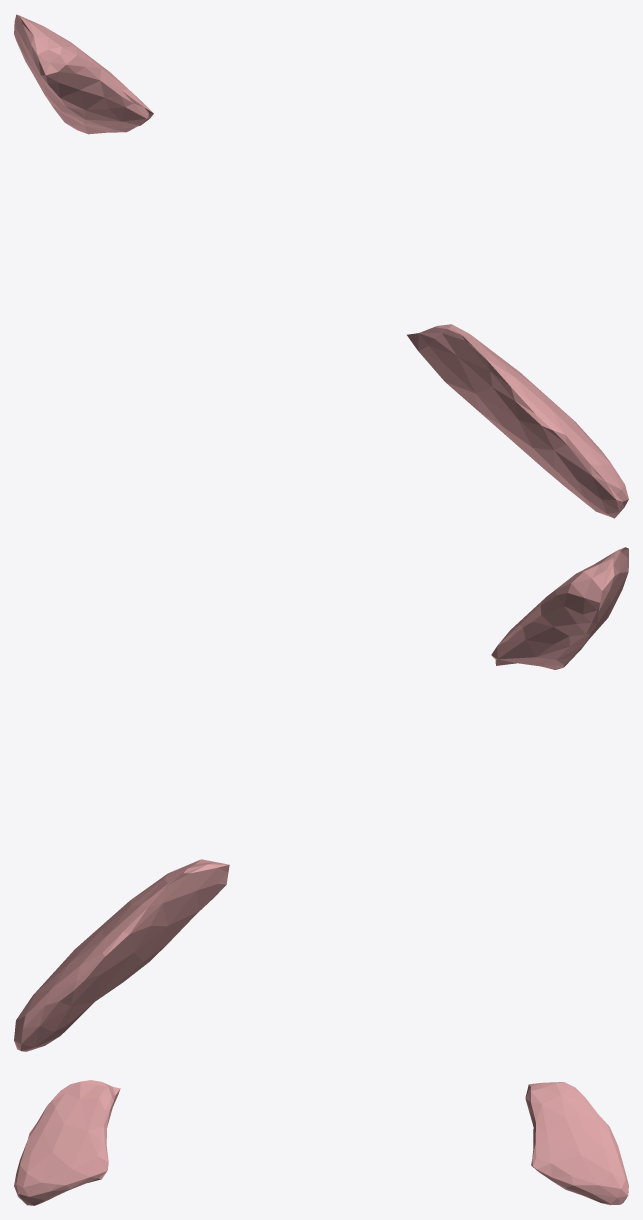
3 views of the same model, one above another, from view 1: azimuth 30°, elevation 25°; view 2: azimuth 150°, elevation 25°; view 3: azimuth 270°, elevation 25° (orthographic). The views are drawn at different scales.
Visible parts, largest first — view 1: 725.obj; view 2: 725.obj; view 3: 725.obj.
Boxes of the visible parts, x1=… form: 725.obj: x1=14, y1=14, x2=628, y2=518; 725.obj: x1=14, y1=547, x2=628, y2=1051; 725.obj: x1=14, y1=1080, x2=628, y2=1205.
Bounding box in the file's own units: 461 × 553 × 3201.
